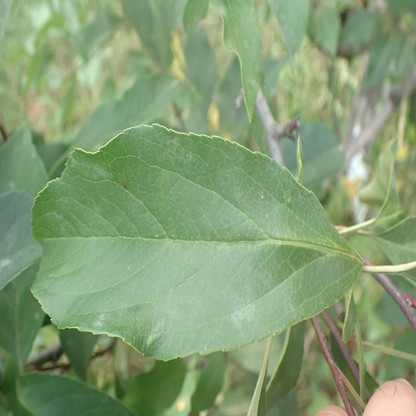powder: (132, 126, 192, 166), (219, 164, 244, 199), (69, 159, 110, 179), (232, 298, 256, 325), (211, 2, 229, 21), (240, 2, 255, 22), (248, 77, 258, 98), (226, 35, 236, 51), (95, 313, 105, 328), (1, 257, 11, 269)
